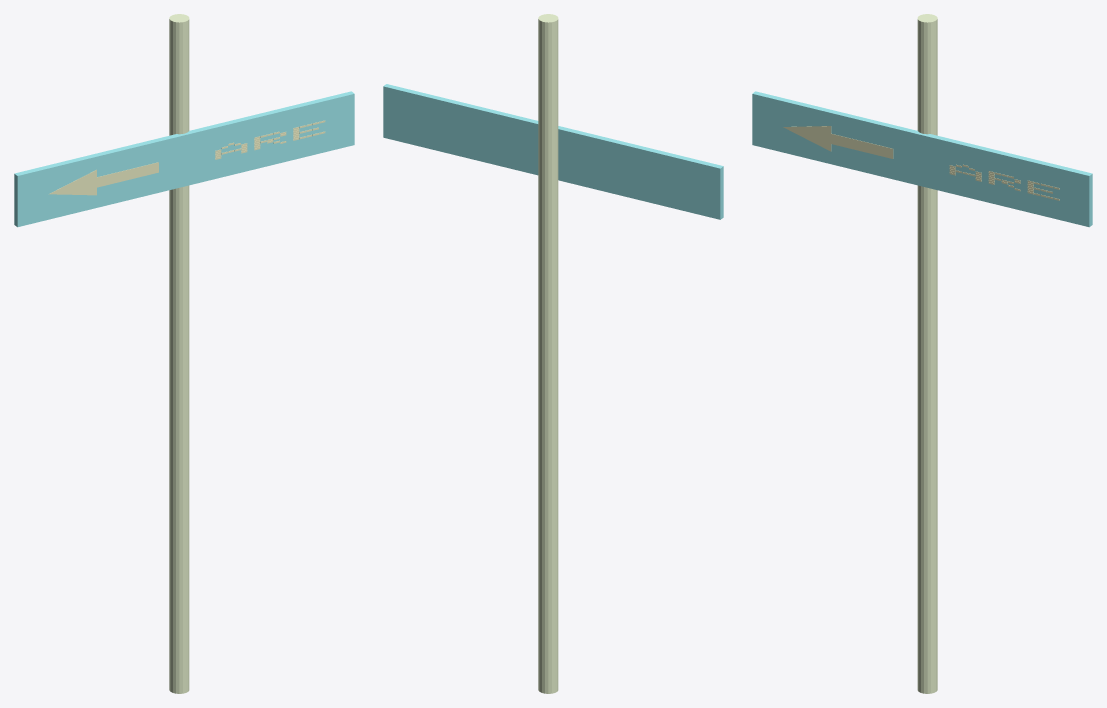
The model's file is sign_gare_arrow_left.glb.
3 views of the same model, side by side, from view 1: azimuth 30°, elevation 25°; view 2: azimuth 150°, elevation 25°; view 3: azimuth 330°, elevation 25° (orthographic).
Parts seen in each view (by area): view 1: plate_base_00, pole, layer_1_00, layer_1_01; view 2: plate_base_00, pole; view 3: plate_base_00, pole, layer_1_00, layer_1_01.
Boxes of the visible parts, x1,y1,x2,y2 form: plate_base_00: (14, 91, 354, 227); pole: (169, 14, 189, 693); layer_1_00: (97, 162, 158, 187); layer_1_01: (49, 169, 96, 195); plate_base_00: (383, 84, 723, 219); pole: (538, 14, 558, 693); plate_base_00: (752, 91, 1092, 227); pole: (917, 14, 937, 693); layer_1_00: (831, 133, 893, 158); layer_1_01: (783, 126, 831, 151).
Bounding box in the file's own units: 1.16 × 2.2 × 0.071.
